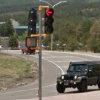Traffic light: (20, 5, 62, 52)
